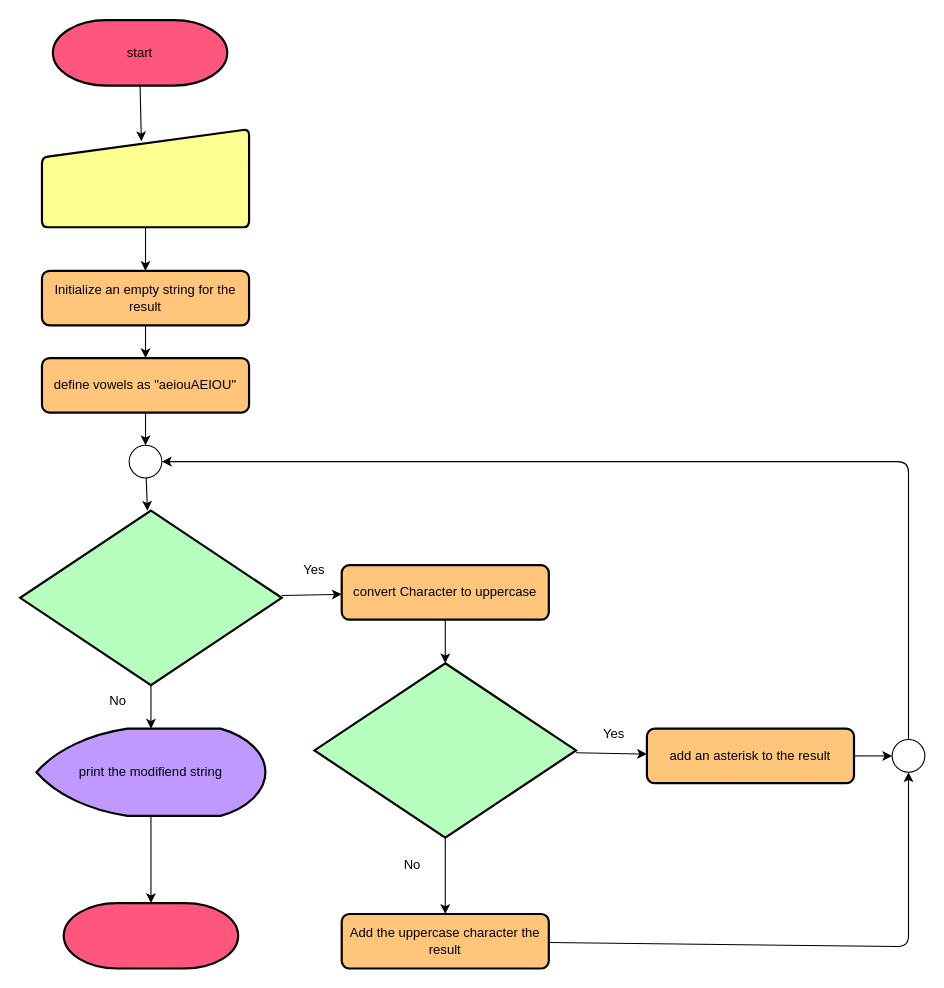
Some shapes in this 944 by 988 pixel diagram are drawn without their labels. Each missing label, with the centre of its shape:
End: point (150, 935)
Is character a vowel?: point (445, 750)
More characters in string: point (150, 597)
read input string from the user: point (145, 178)
